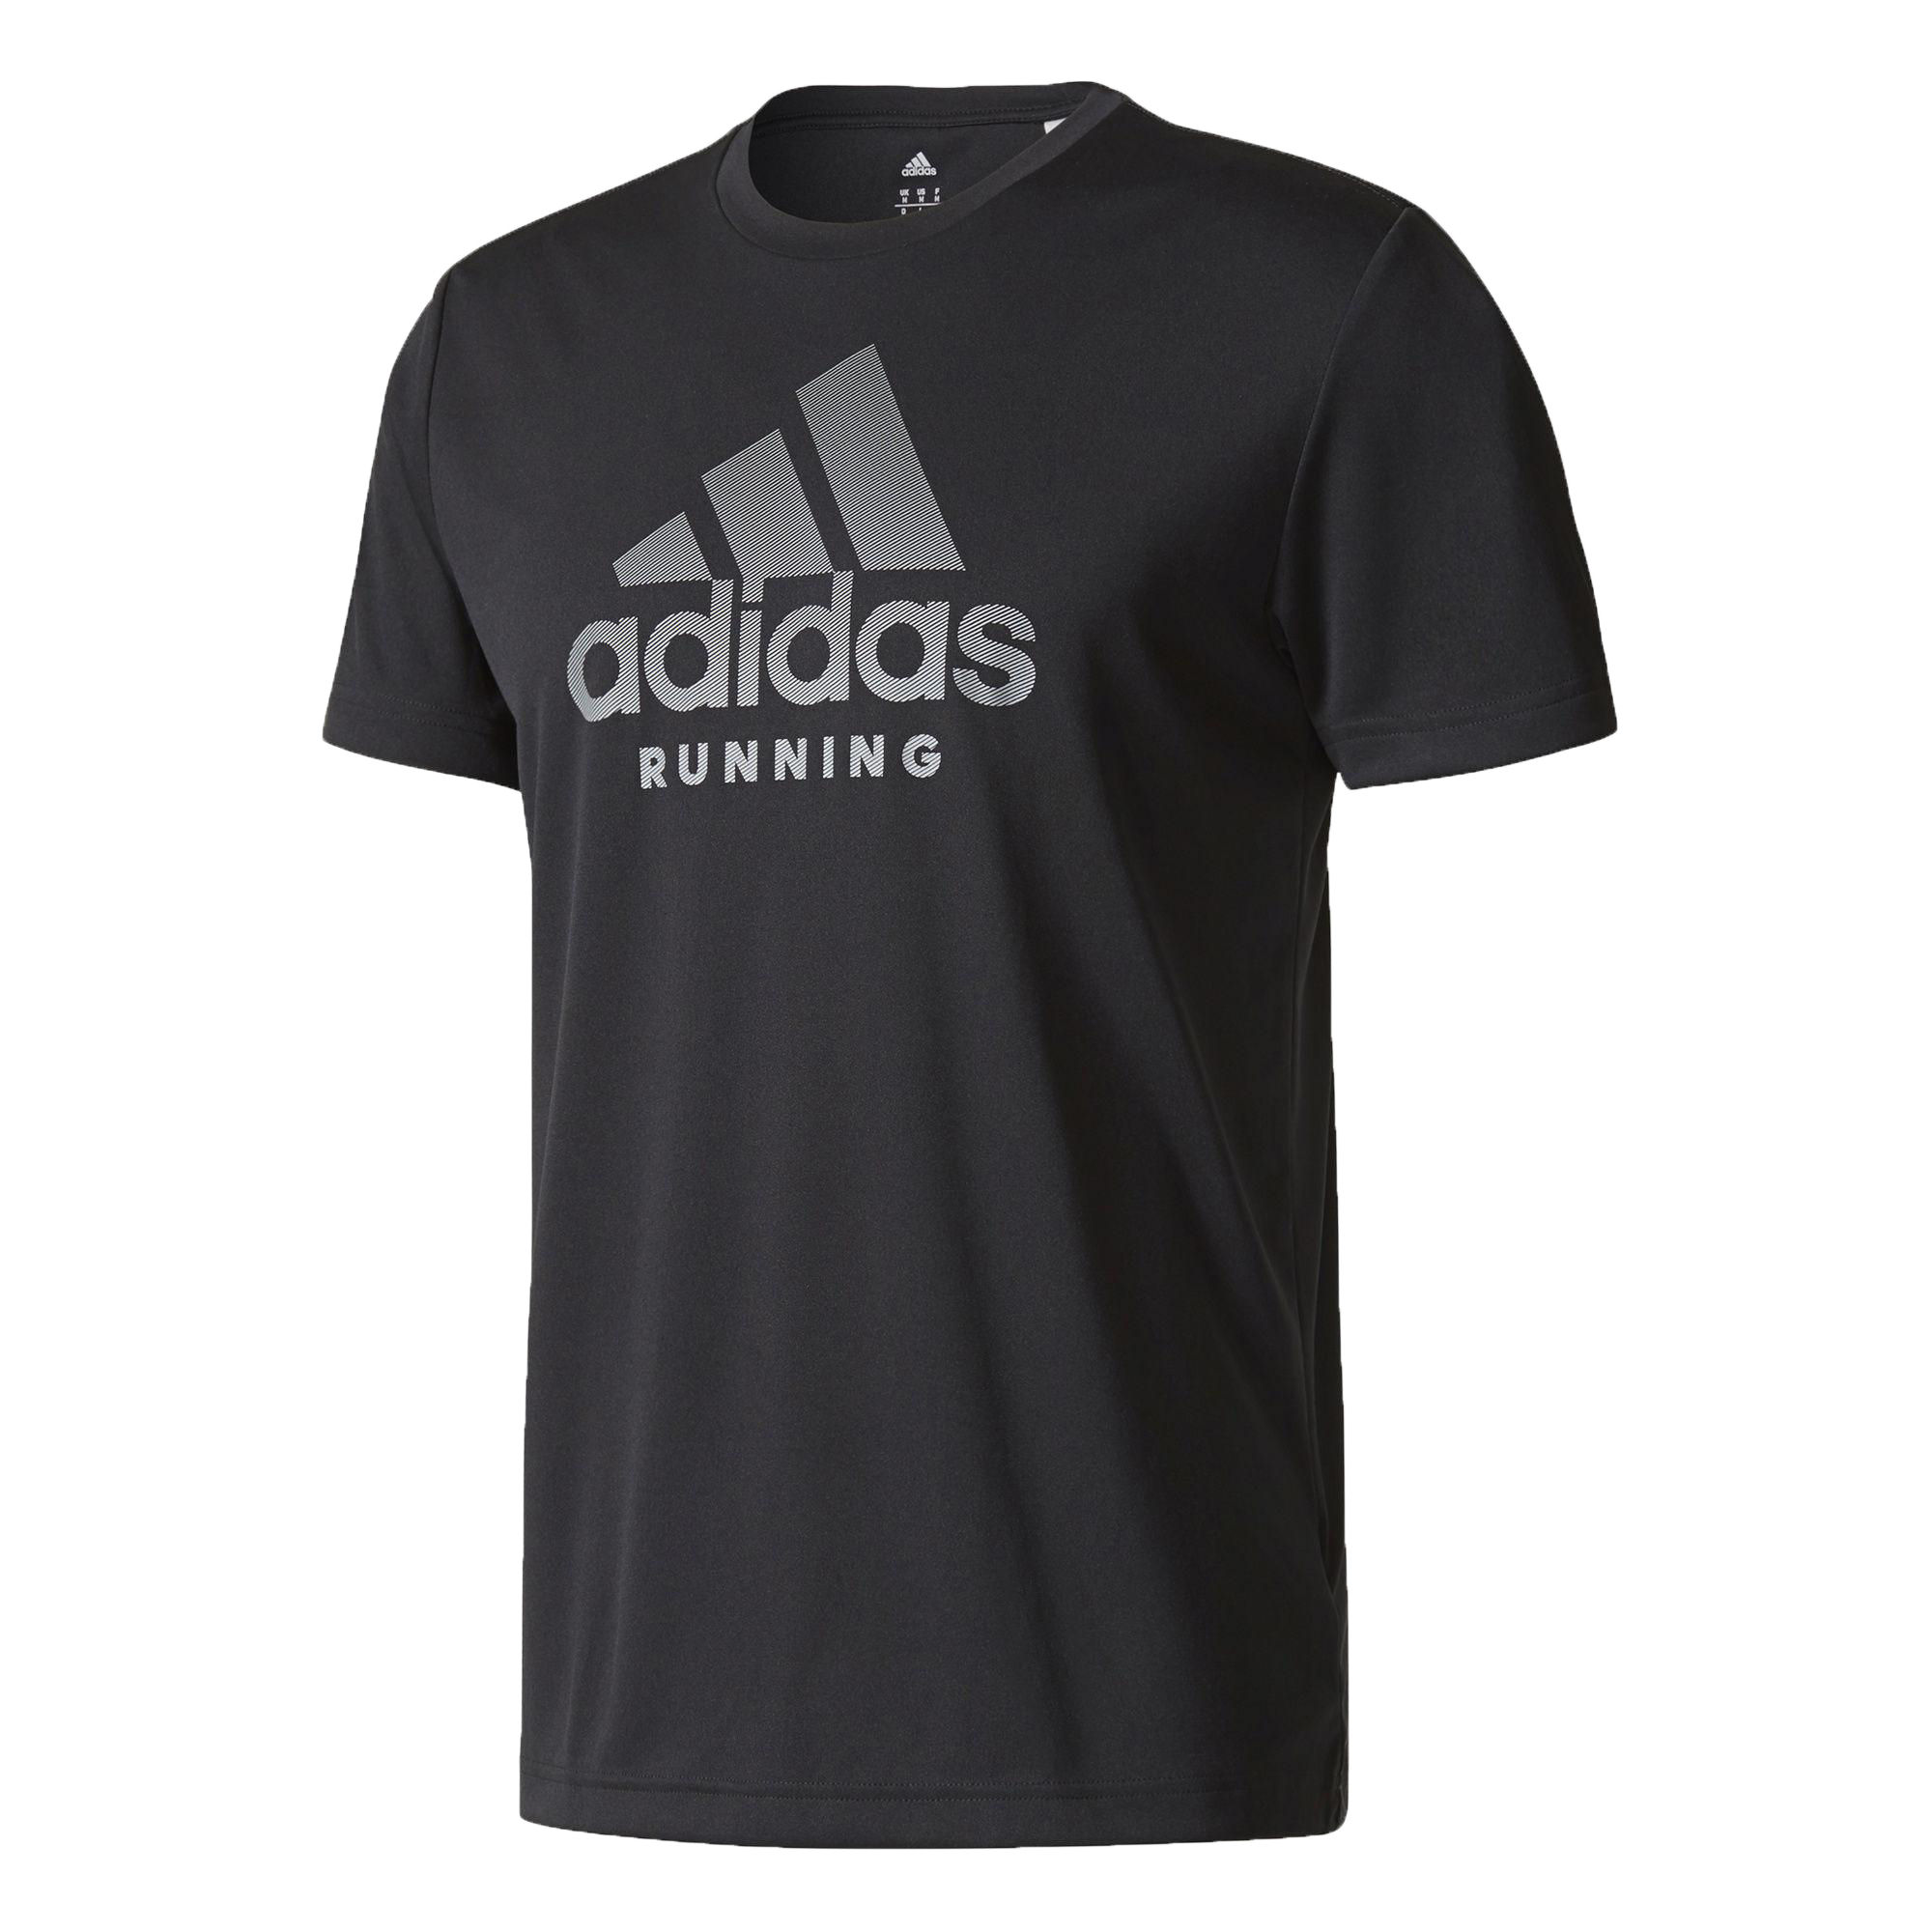teeshirt: (253, 69, 1840, 1930)
